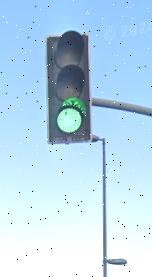greenlight: (46, 32, 93, 142)
